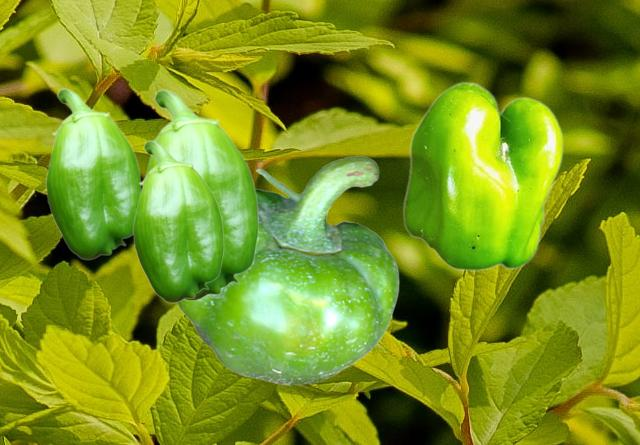bell_pepper: (174, 155, 398, 384), (402, 81, 562, 270), (145, 89, 258, 300), (45, 88, 141, 259), (132, 140, 223, 302)
